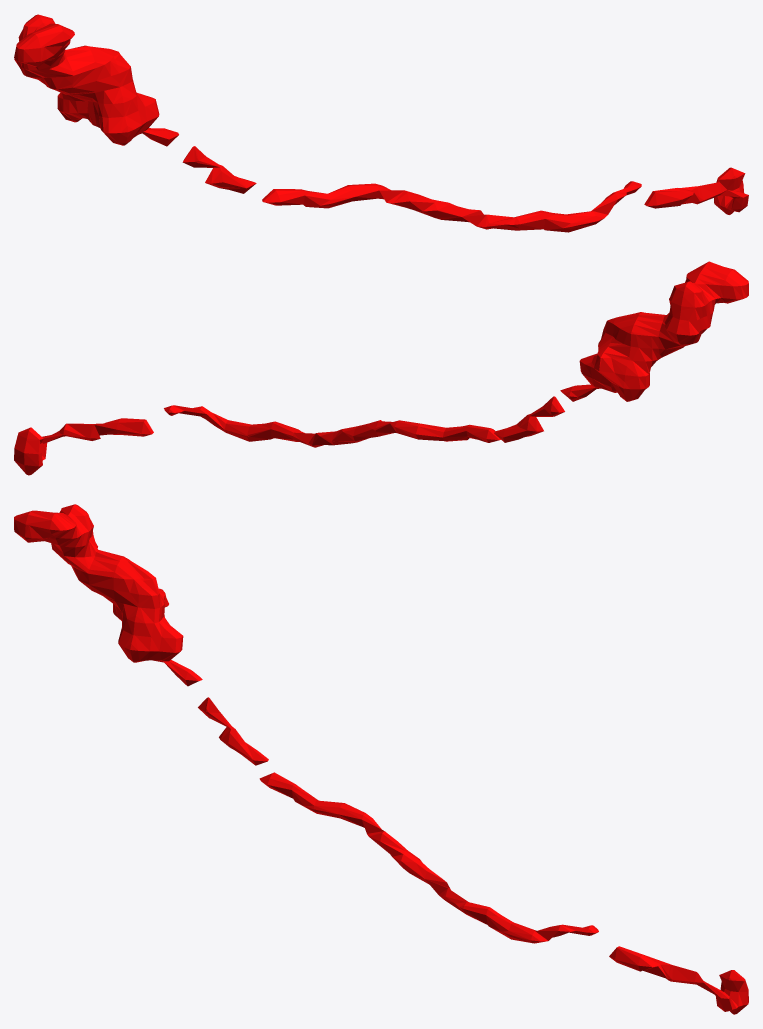
The model's file is nusA_coarse.dae.
The picture shows the model from 3 angles, top to bottom: view 1: azimuth 30°, elevation 25°; view 2: azimuth 150°, elevation 25°; view 3: azimuth 330°, elevation 25°; orthographic projection. The views are drawn at different scales.
Parts seen in each view (by area): view 1: nusA; view 2: nusA; view 3: nusA.
Part boxes in pixels (<box>): nusA: <box>14,14,748,232</box>; nusA: <box>14,261,748,475</box>; nusA: <box>14,504,748,1014</box>.
Size of the model in its own units: 496 by 238 by 66.52.
